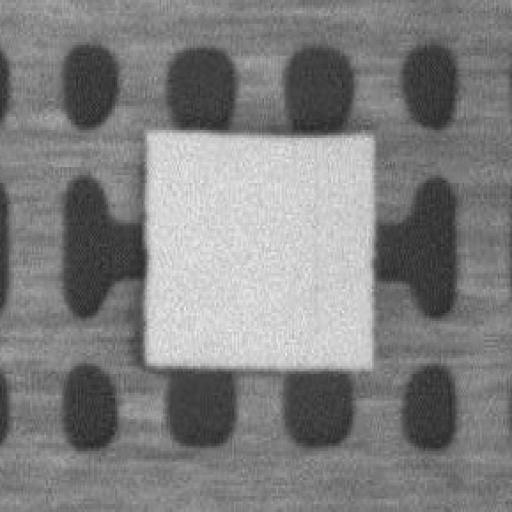DIE_CRACK: (306, 132, 320, 348)
